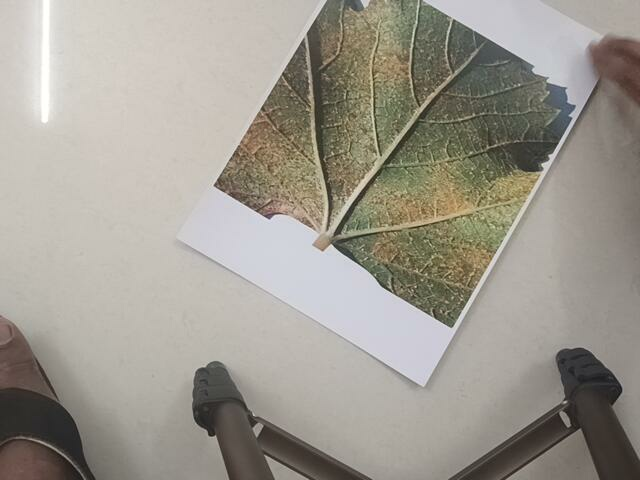Grape_Rust_Fungus: (210, 5, 581, 320)
